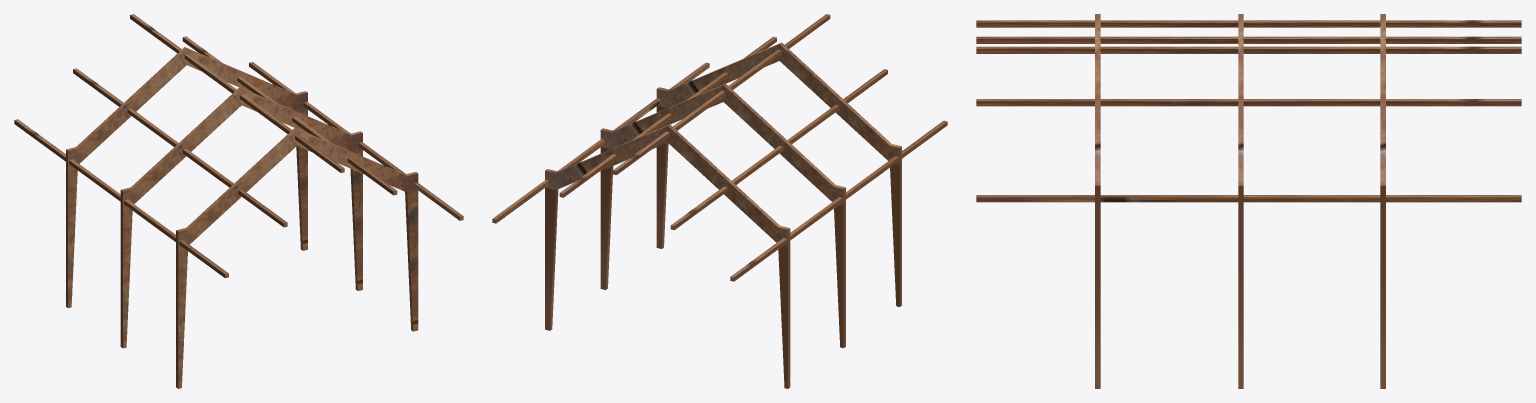
File: ChurchSupportBeams.fbx
3 views of the same model, side by side, from view 1: azimuth 30°, elevation 25°; view 2: azimuth 150°, elevation 25°; view 3: azimuth 270°, elevation 25° (orthographic). The views are drawn at different scales.
Parts seen in each view (by area): view 1: pasted__pasted__ChurchSupportBeam, pasted__ChurchSupportBeam, ChurchSupportBeam, pasted__pasted__pCube9, pCube6, pasted__pCube11, pasted__pCube6, pasted__pCube10; view 2: ChurchSupportBeam, pasted__ChurchSupportBeam, pasted__pasted__ChurchSupportBeam, pasted__pasted__pCube9, pCube6, pasted__pCube11, pasted__pCube6, pasted__pCube10; view 3: pCube6, pasted__pCube6, pasted__pasted__pCube9, pasted__pCube10, pasted__pCube11, ChurchSupportBeam, pasted__ChurchSupportBeam, pasted__pasted__ChurchSupportBeam.
Part boxes in pixels (box(x1,y1,x2,y2)): pasted__pasted__ChurchSupportBeam: box(176, 128, 418, 388); pasted__ChurchSupportBeam: box(120, 87, 362, 348); ChurchSupportBeam: box(66, 47, 307, 307); pasted__pasted__pCube9: box(14, 119, 228, 278); pCube6: box(130, 14, 344, 172); pasted__pCube11: box(73, 68, 287, 227); pasted__pCube6: box(249, 62, 463, 220); pasted__pCube10: box(182, 36, 397, 195); ChurchSupportBeam: box(545, 124, 790, 388); pasted__ChurchSupportBeam: box(600, 83, 845, 348); pasted__pasted__ChurchSupportBeam: box(656, 42, 901, 306); pasted__pasted__pCube9: box(730, 120, 947, 281); pCube6: box(613, 14, 830, 174); pasted__pCube11: box(670, 69, 887, 230); pasted__pCube6: box(492, 62, 709, 223); pasted__pCube10: box(559, 36, 776, 197); pCube6: box(976, 20, 1521, 27); pasted__pCube6: box(976, 195, 1521, 202); pasted__pasted__pCube9: box(976, 46, 1521, 53); pasted__pCube10: box(976, 99, 1521, 106); pasted__pCube11: box(976, 36, 1521, 43); ChurchSupportBeam: box(1380, 14, 1385, 388); pasted__ChurchSupportBeam: box(1238, 14, 1243, 388); pasted__pasted__ChurchSupportBeam: box(1095, 14, 1100, 388).
Bounding box in the file's own units: 64.02 × 58.84 × 97.43.
